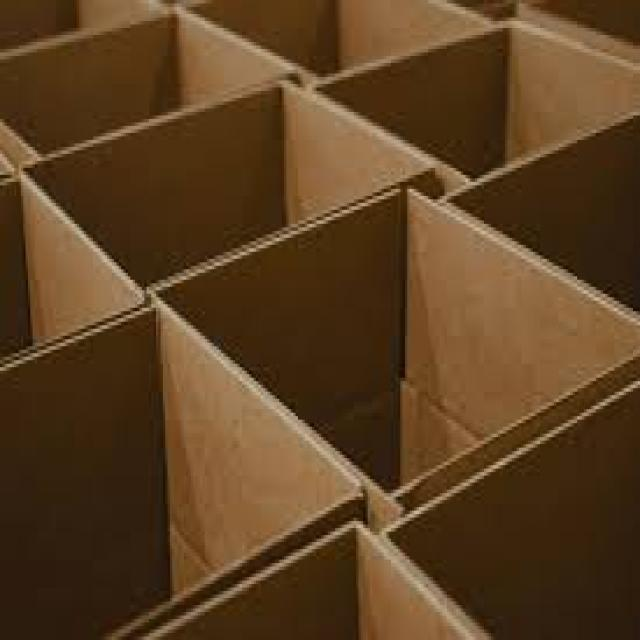box: (156, 193, 639, 528), (0, 308, 363, 639), (28, 84, 442, 286), (389, 385, 639, 639), (317, 21, 639, 178), (0, 11, 290, 164), (396, 354, 639, 514), (149, 525, 481, 639), (452, 116, 639, 311), (0, 179, 144, 360), (191, 0, 488, 80), (0, 0, 158, 48), (517, 0, 639, 62), (450, 0, 521, 20)
